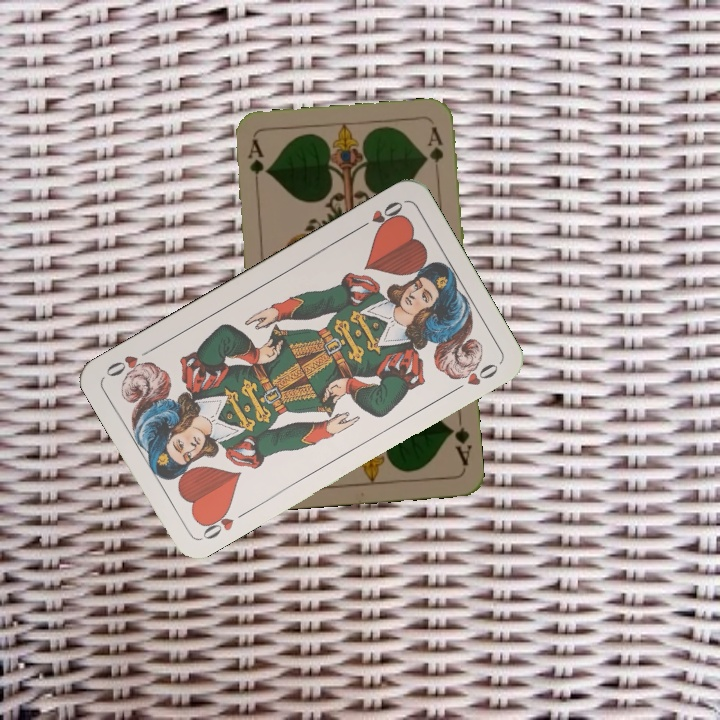GA: (445, 411, 474, 468), (243, 135, 266, 195)
HO: (352, 197, 406, 233), (196, 503, 237, 543)
